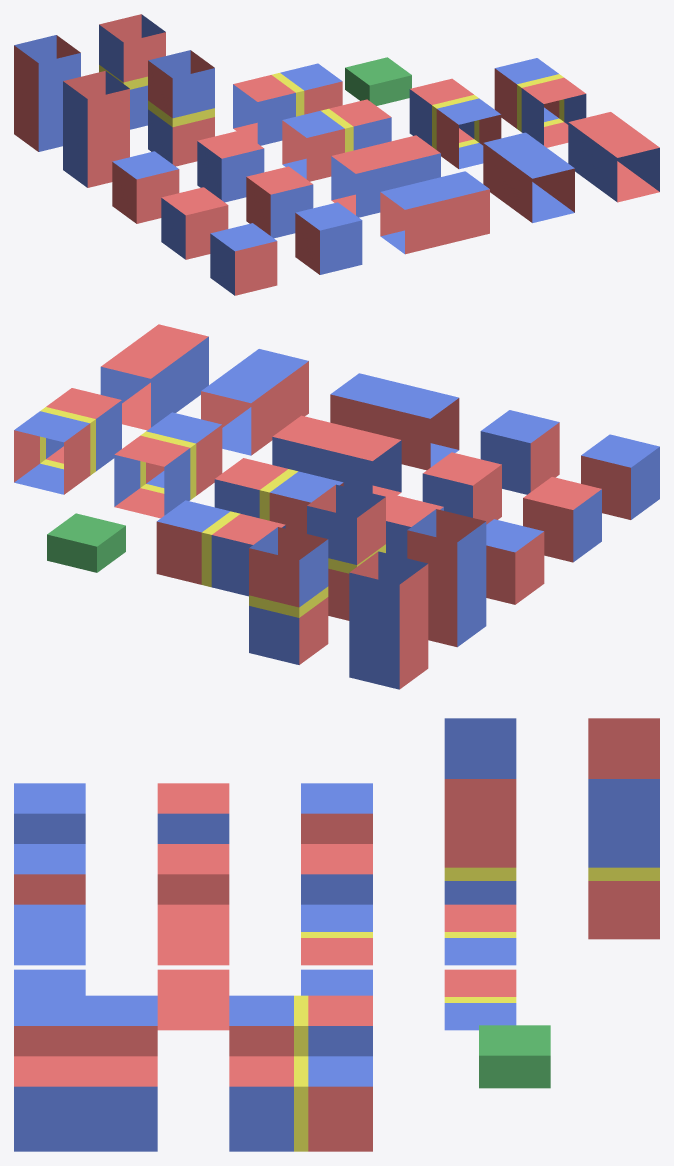
Rendered from template.dae.
3 renders of one model, top to bottom at view 1: azimuth 30°, elevation 25°; view 2: azimuth 150°, elevation 25°; view 3: azimuth 270°, elevation 25°, orthographic. The views are drawn at different scales.
Visible parts, largest first — view 1: oxz (×3), zxoh (×6), zxo (×3), xoz (×4), zox (×4), xozh (×7), zoxh (×7), xzo (×3), oxzh (×6), ozxh (×6), ozx (×3), zxz (×2) (+7 smaller); view 2: xzoh (×6), xzo (×3), xozh (×7), zoxh (×7), xoz (×4), zox (×4), zxo (×3), ozxh (×5), oxz (×3), ozx (×3), oxzh (×5), zxoh (×4) (+7 smaller); view 3: zoxh (×5), zox (×2), xzoh (×4), zxoh (×4), ozx (×2), xozh (×5), xoz (×2), ozxh (×5), oxz (×2), oxzh (×3), Y, zxx (×2) (+7 smaller).
Part boxes in pixels (x1,y1,x2,y2): oxz (×3): (380, 171, 489, 254); zxoh (×6): (148, 50, 214, 166); zxo (×3): (63, 71, 129, 187); xoz (×4): (483, 132, 574, 223); zox (×4): (568, 112, 659, 202); xozh (×7): (409, 78, 501, 169); zoxh (×7): (494, 58, 586, 147); xzo (×3): (14, 35, 80, 151); oxzh (×6): (282, 99, 391, 181); ozxh (×6): (233, 63, 342, 145); ozx (×3): (331, 135, 440, 217); zxz (×2): (210, 223, 277, 295); xzoh (×6): (249, 527, 328, 664); xzo (×3): (349, 551, 428, 689); xozh (×7): (114, 412, 222, 518); zoxh (×7): (14, 388, 121, 494); xoz (×4): (201, 349, 308, 455); zox (×4): (100, 324, 208, 430); zxo (×3): (407, 509, 486, 646); ozxh (×5): (156, 500, 285, 596); oxz (×3): (330, 373, 459, 470); ozx (×3): (272, 415, 401, 493); oxzh (×5): (214, 458, 343, 533); zxoh (×4): (307, 484, 385, 620); zoxh (×5): (229, 1056, 372, 1151); zox (×2): (14, 1056, 157, 1151); xzoh (×4): (588, 779, 659, 939); zxoh (×4): (444, 779, 516, 904); ozx (×2): (157, 904, 229, 1030); xozh (×5): (229, 995, 372, 1056); xoz (×2): (14, 995, 157, 1056); ozxh (×5): (444, 904, 516, 1030); oxz (×2): (14, 904, 85, 995); oxzh (×3): (301, 904, 372, 995); Y: (479, 1025, 550, 1088); zxx (×2): (157, 783, 229, 843).
Size of the model in its own units: 10 by 9 by 2.
